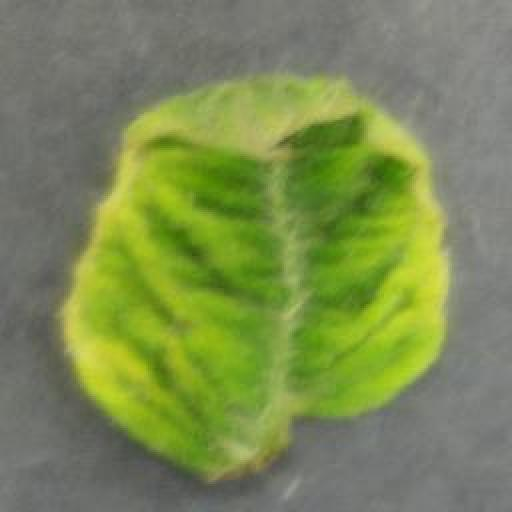disease_tomato: (56, 73, 452, 491)
